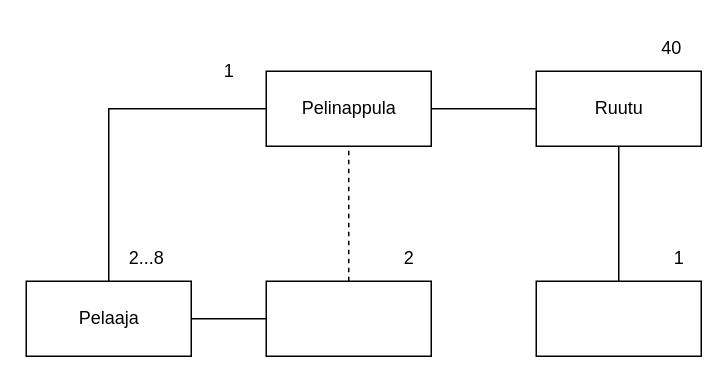
Image size: 728x383. Some labels were removed from this diagram. The centre of each missing label's shape, as x and y in pixels:
"Noppa" goes at [348,318].
"Pelilauta" goes at [618,318].
